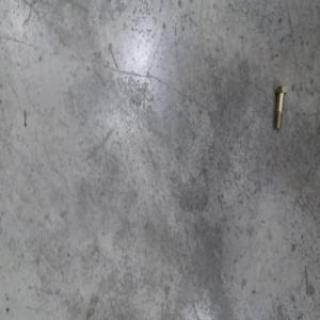Bolttrack_idkeyframe: (270, 83, 284, 130)
